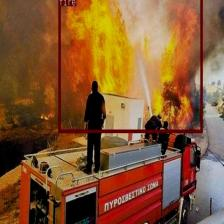fire: (58, 0, 202, 132)
